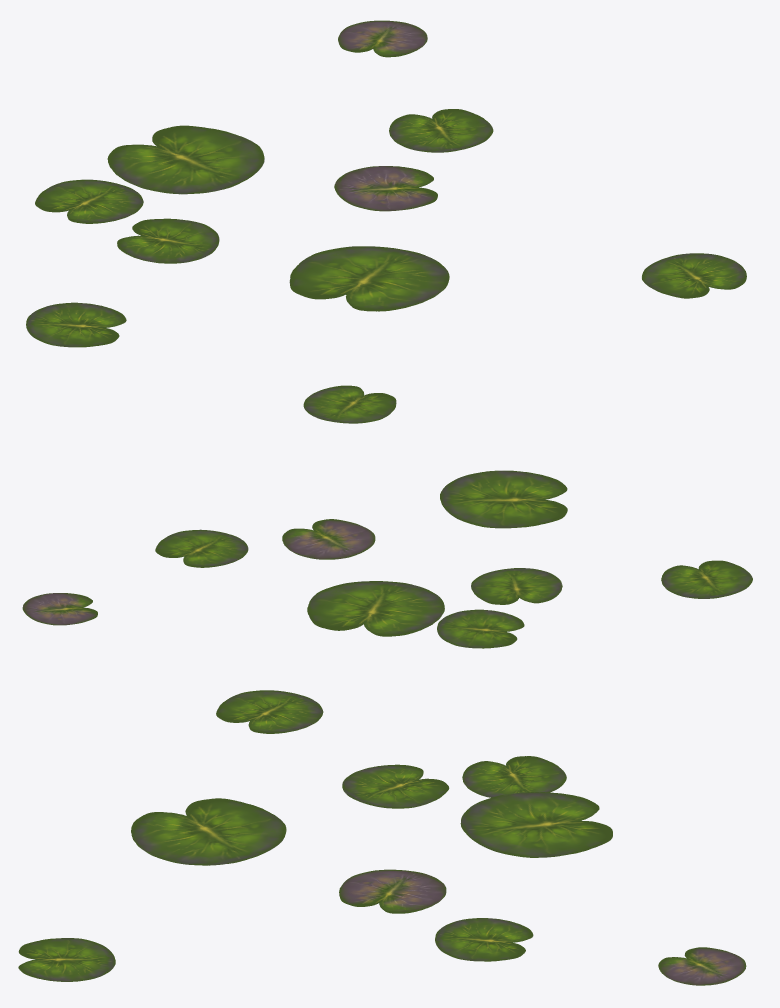
File: lillypadA.fbx
3 renders of one model, top to bottom at view 1: azimuth 30°, elevation 25°; view 2: azimuth 150°, elevation 25°; view 3: azimuth 270°, elevation 25°, orthographic. The views are drawn at different scales.
Parts seen in each view (by area): view 1: lilypadA; view 2: lilypadA; view 3: lilypadA.
Boxes of the visible parts, left/top/right/bottom form: lilypadA: left=26, top=20, right=746, bottom=347; lilypadA: left=22, top=385, right=752, bottom=648; lilypadA: left=18, top=690, right=746, bottom=985.
Bounding box in the file's own units: 390 × 4.3 × 397.
1 material, 1 textured.
